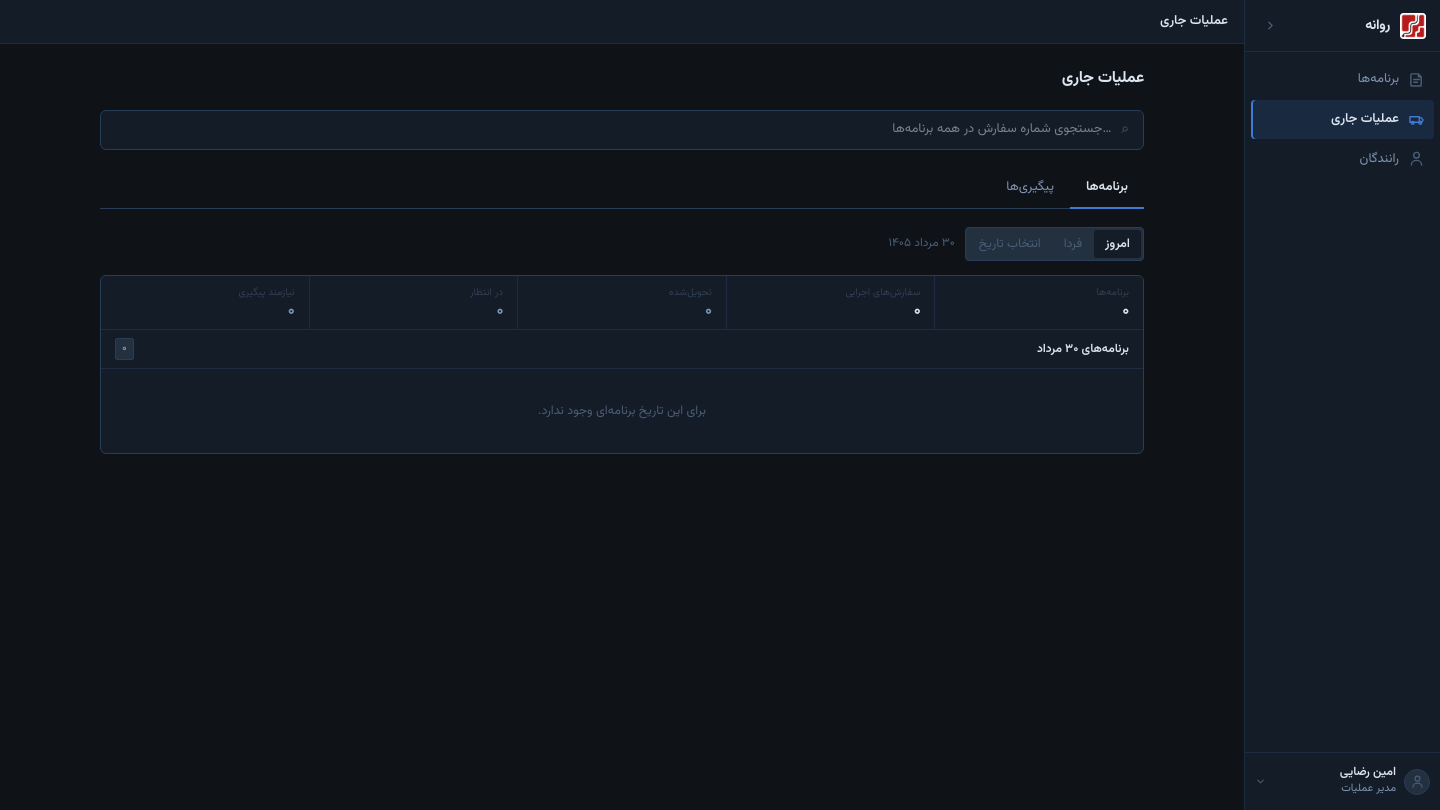
Scenario: A05 Global Order Search — UI › dropdown appears after typing 2+ characters
Type "10" into the field with test id "ops-search-input". click: (613, 130)
box: [115,119,1111,140]
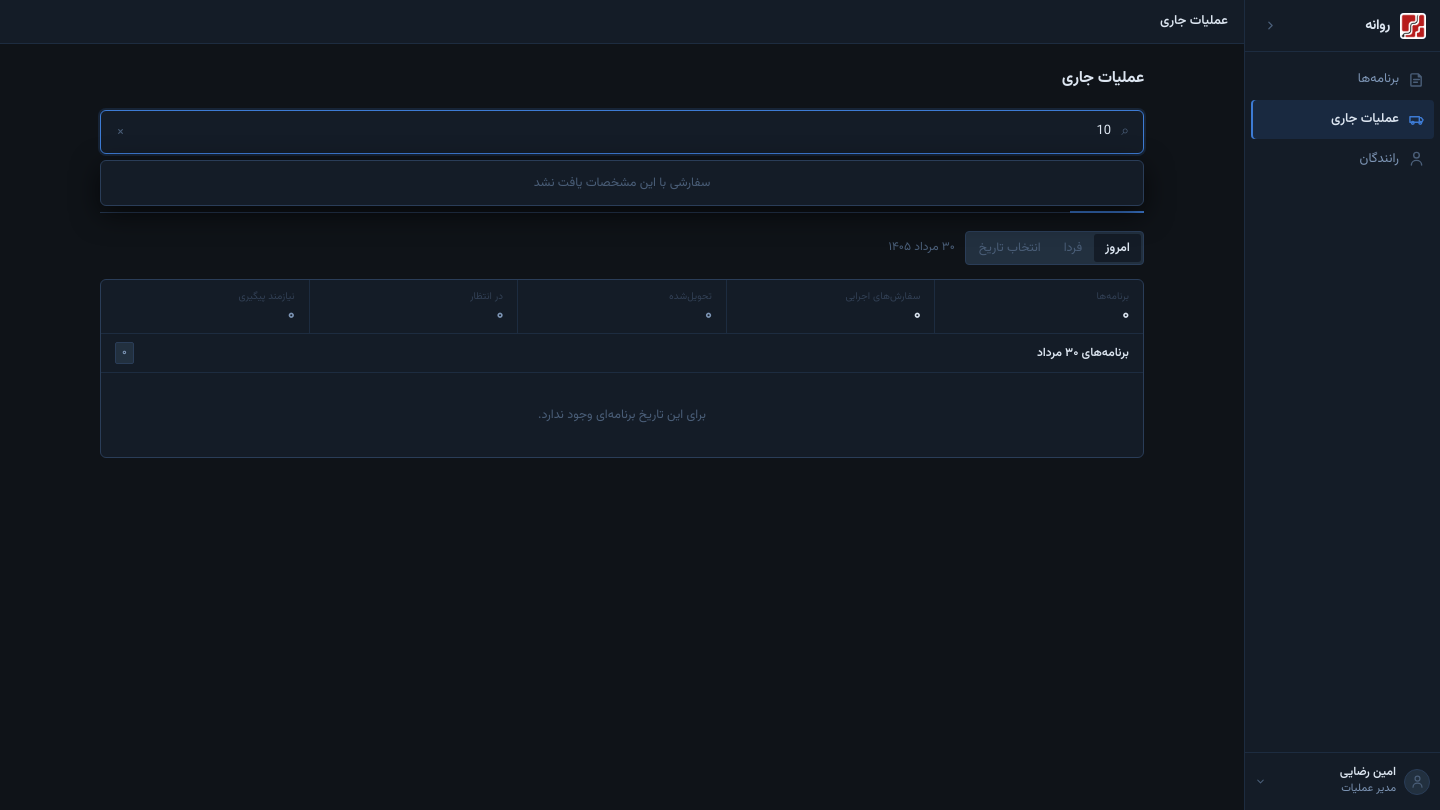
Check: the list with test id "ops-search-dropdown" is shown, box [100,160,1144,206]
